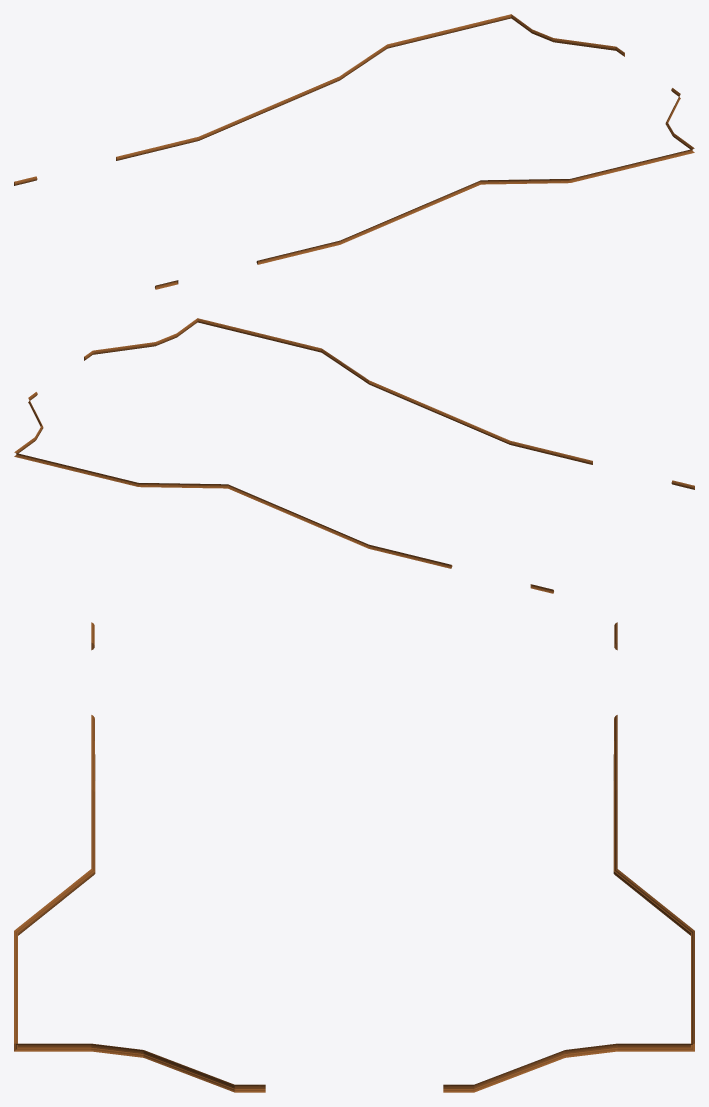
File: 12_Zoclo_01.fbx
The picture shows the model from 3 angles, top to bottom: view 1: azimuth 30°, elevation 25°; view 2: azimuth 150°, elevation 25°; view 3: azimuth 270°, elevation 25°; orthographic projection. The views are drawn at different scales.
Visible parts, largest first — view 1: Zoclo_01; view 2: Zoclo_01; view 3: Zoclo_01.
Boxes of the visible parts, box(x1,y1,x2,y2) form: Zoclo_01: box(14, 14, 694, 289); Zoclo_01: box(14, 318, 694, 593); Zoclo_01: box(14, 622, 694, 1092).
Size of the model in its own units: 8248 by 422 by 4649.
